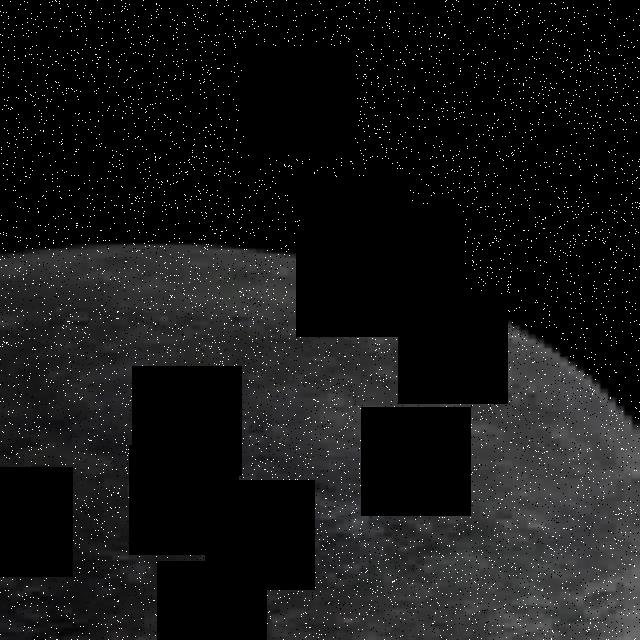Mercury: (0, 239, 640, 640)
